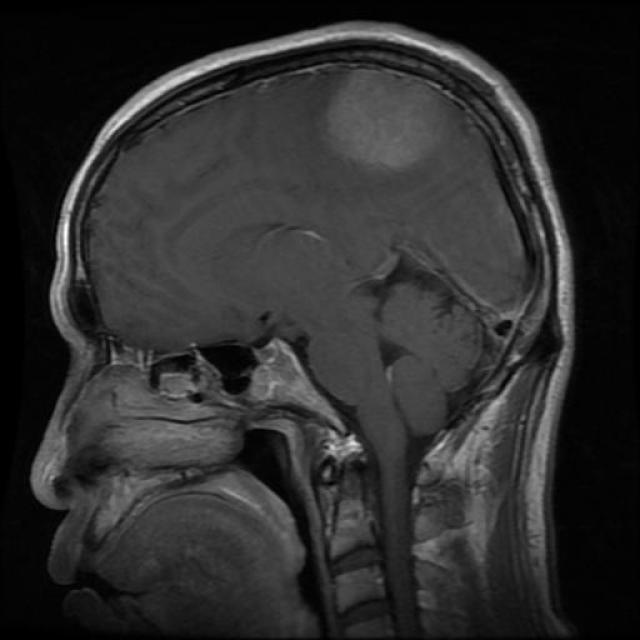Meningioma: (327, 72, 450, 168)
